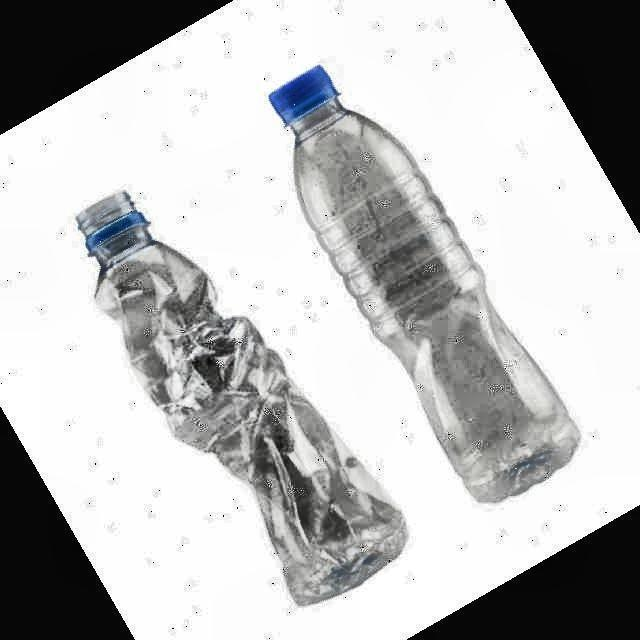plastic: (78, 192, 408, 605), (269, 66, 579, 502)
